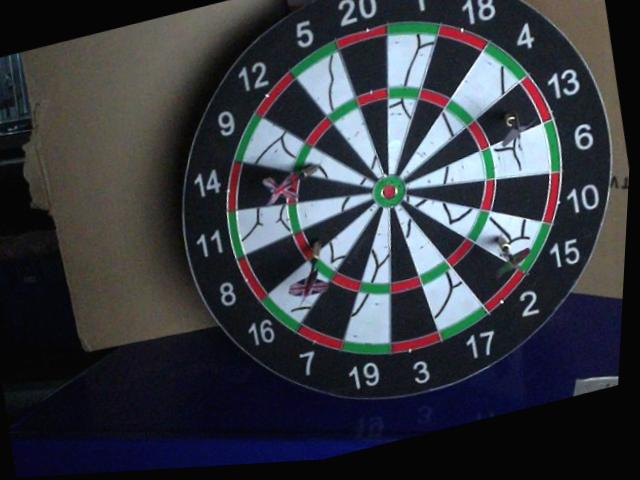single_13: (478, 87, 538, 145)
single_15: (475, 213, 545, 266)
single_8: (304, 206, 368, 253)
single_9: (304, 148, 370, 186)
